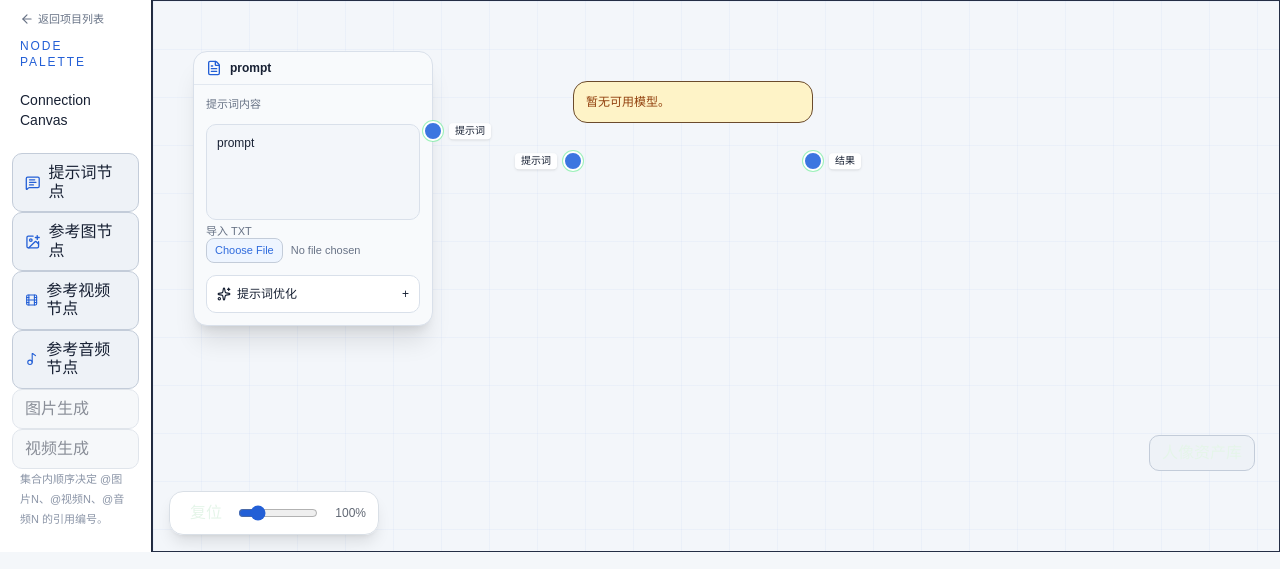
it: canvas named-port interactions › clears a pending source when a remote-shaped project replacement removes it
Click the button with aria-label "prompt：提示词输出端口": (433, 131) [423,121,443,141]
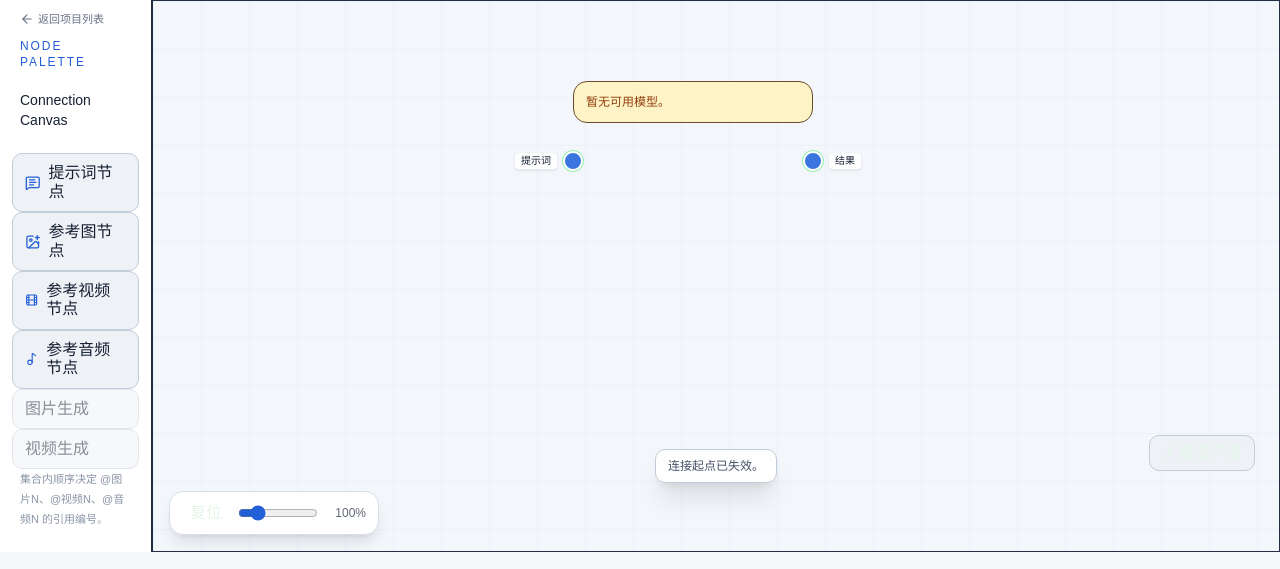
Check: the message with test id "connection-status" reads "连接起点已失效。", box [668,459,764,473]
